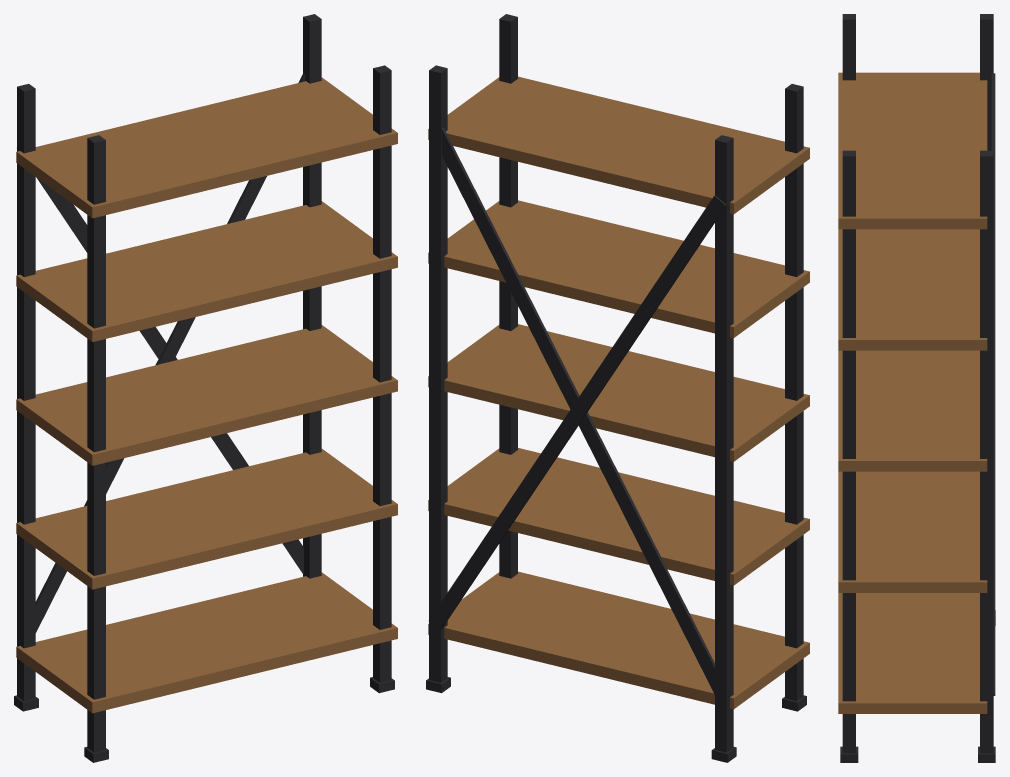
Rendered from FN_Shelf_Etagere.obj.
3 renders of one model, left to right at view 1: azimuth 30°, elevation 25°; view 2: azimuth 150°, elevation 25°; view 3: azimuth 270°, elevation 25°, orthographic. The views are drawn at different scales.
Parts seen in each view (by area): view 1: FN_Shelf_Etagere; view 2: FN_Shelf_Etagere; view 3: FN_Shelf_Etagere.
Boxes of the visible parts, <box> form: FN_Shelf_Etagere: <box>14,14,397,762</box>; FN_Shelf_Etagere: <box>426,14,809,762</box>; FN_Shelf_Etagere: <box>838,14,995,762</box>.
Bounding box in the file's own units: 0.93 × 1.8 × 0.424.
1 material, 1 textured.
